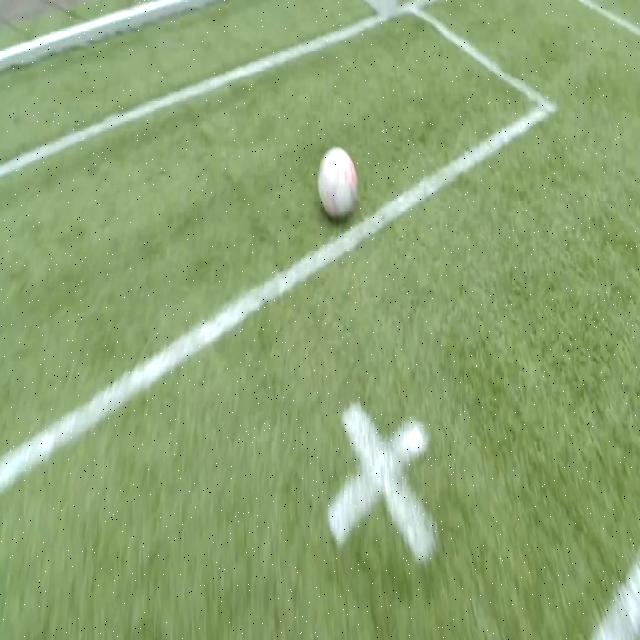ball: (318, 147, 357, 218)
